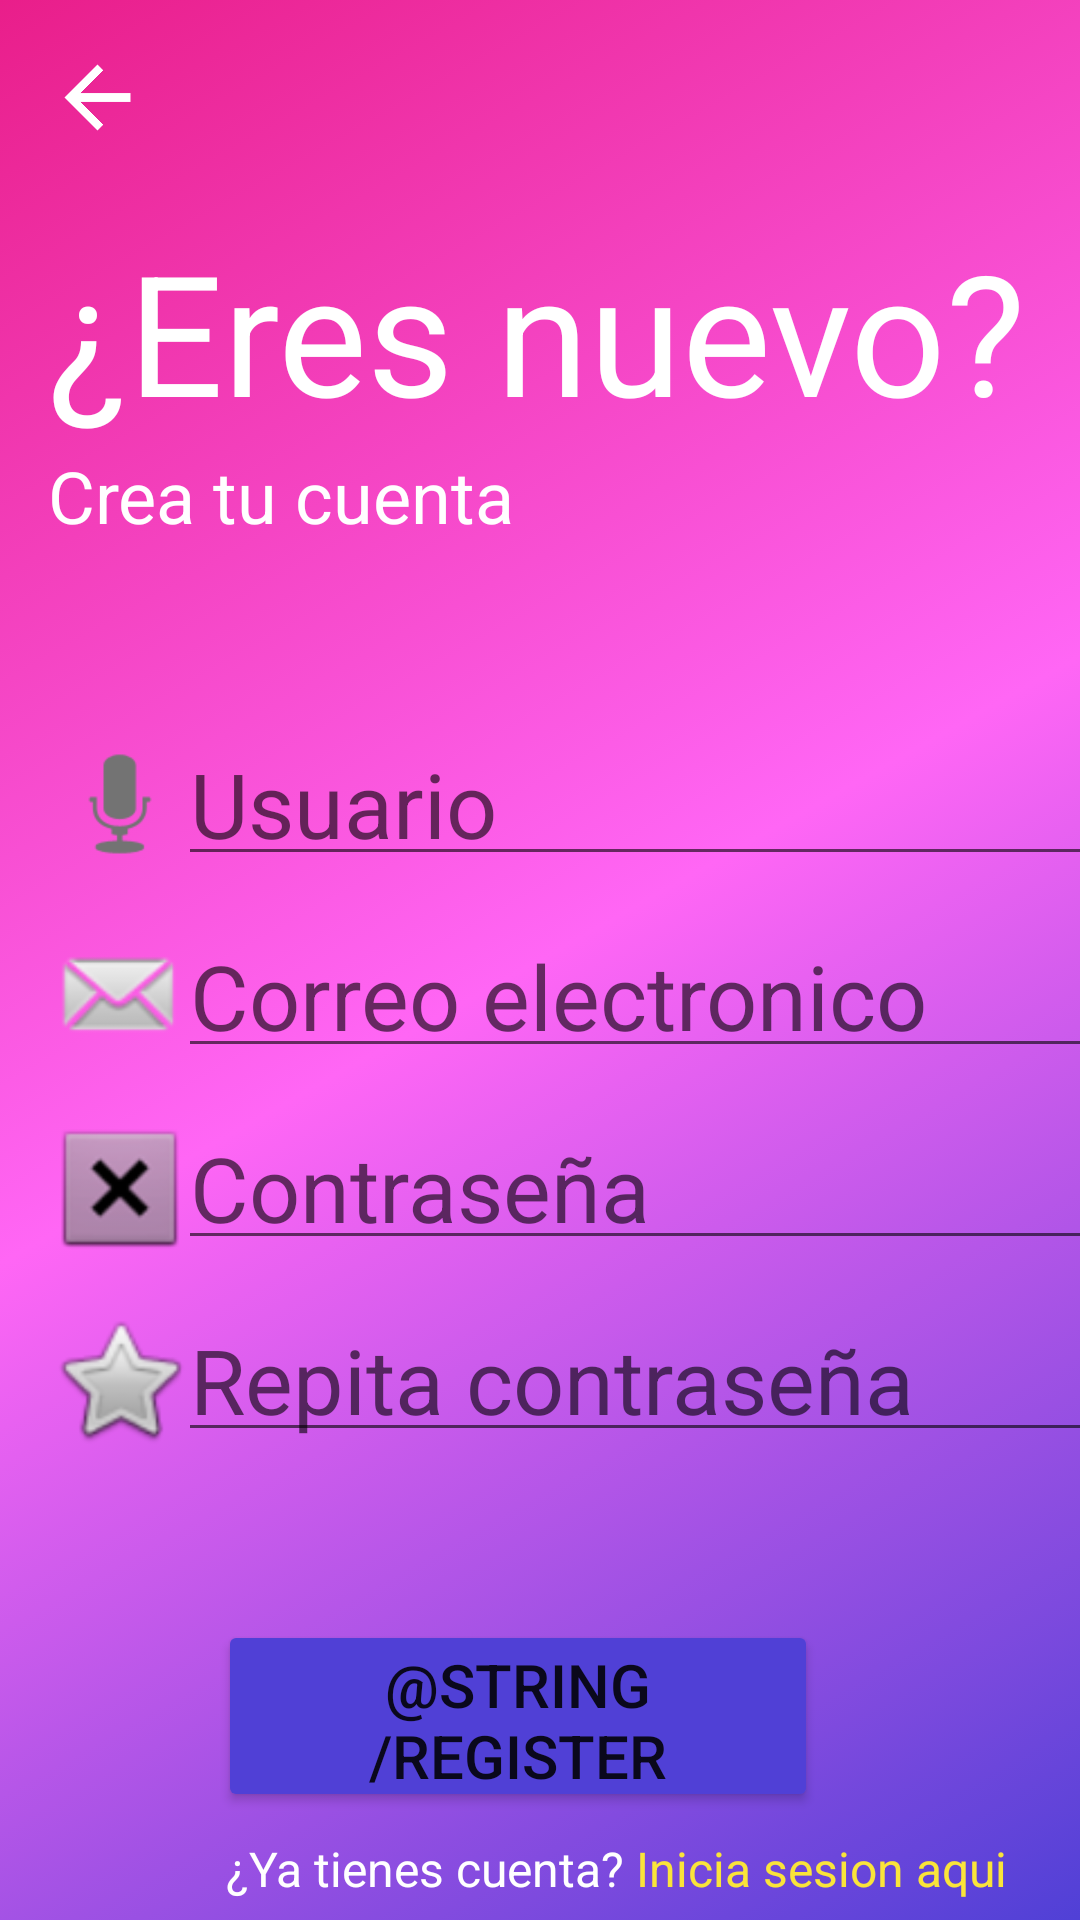

Icons on this 1080×1920 Android screen, each with its box as (x1=x1, y1=y1, x2=x2, y2=y2):
speak now: (x1=88, y1=754, x2=151, y2=854)
star: (x1=48, y1=1308, x2=192, y2=1442)
sym action email: (x1=63, y1=958, x2=174, y2=1031)
